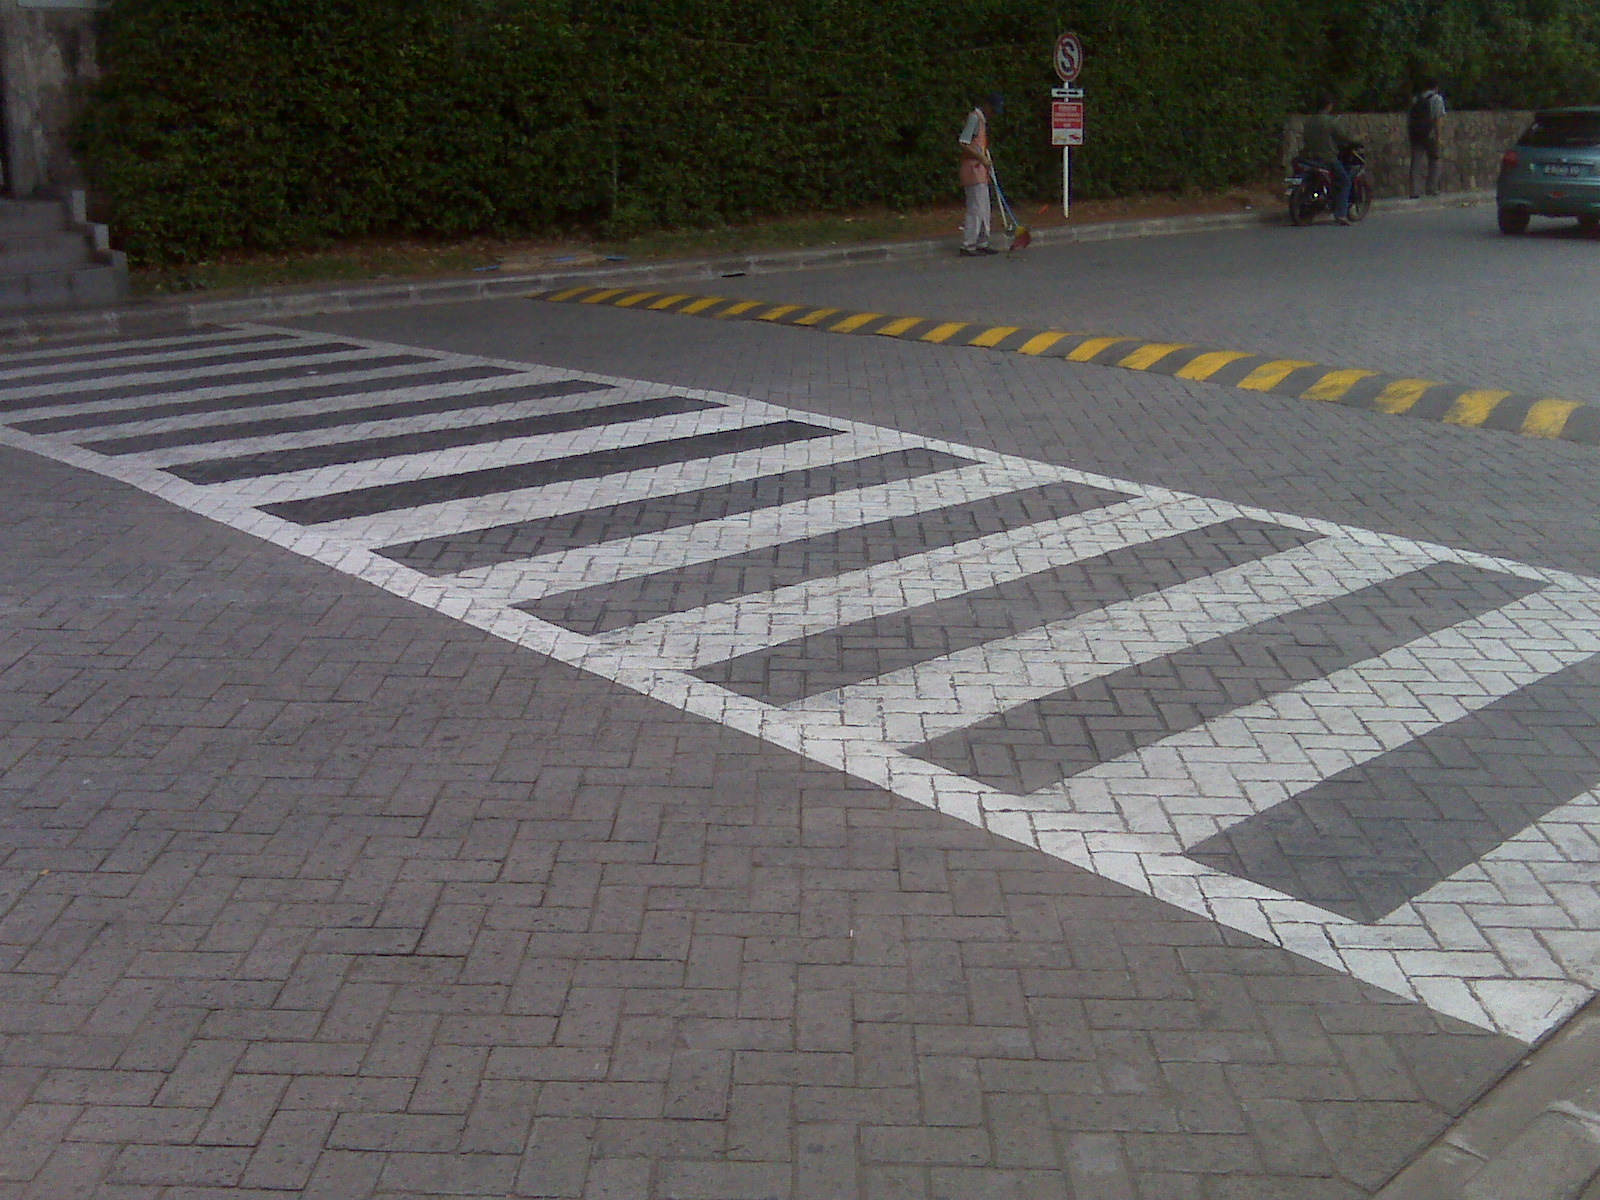zebracross: (4, 408, 1477, 1066)
